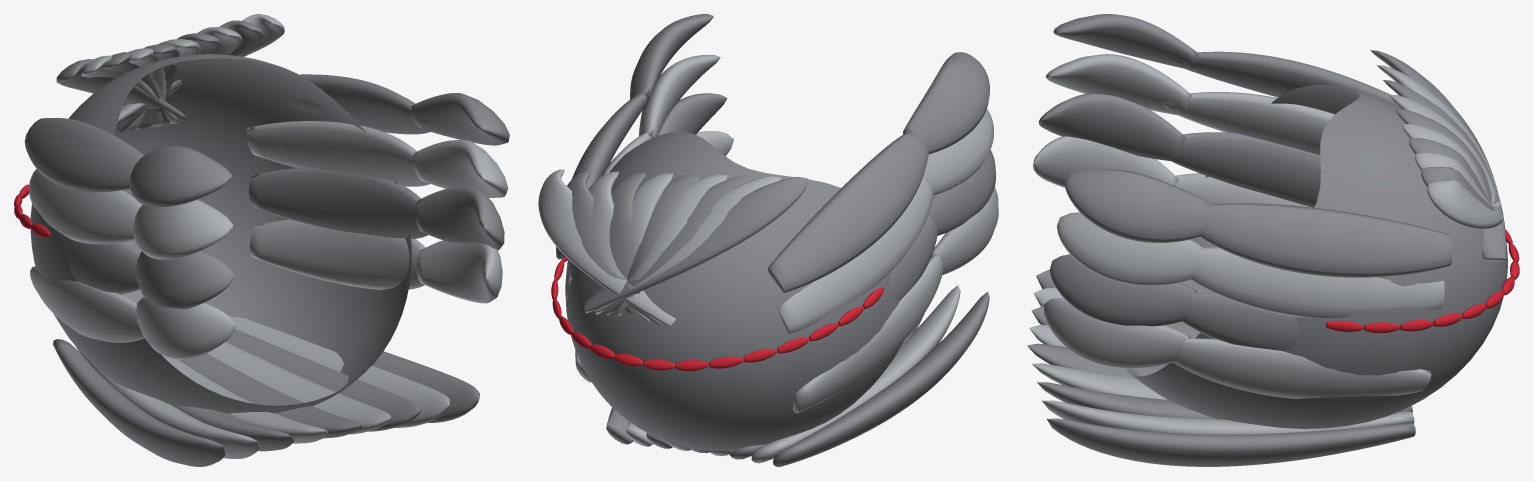
Rendered from female_hair_ref11.glb.
3 views of the same model, side by side, from view 1: azimuth 30°, elevation 25°; view 2: azimuth 150°, elevation 25°; view 3: azimuth 270°, elevation 25° (orthographic). The views are drawn at different scales.
Visible parts, largest first — view 1: CrownHair_ref11, SideHair_Upper_1_2, SideHair_Upper_1_3, SideHair_Upper_1_1, SideHair_Upper_-1_0, BackHair_00, SideHair_Upper_-1_1, SideHair_Upper_-1_3, SideHair_Wave_-1_0, SideHair_Wave_-1_1, SideHair_Wave_1_3, SideHair_Wave_-1_2 (+24 smaller); view 2: CrownHair_ref11, SideHair_Upper_-1_0, BackHair_00, SideHair_Upper_-1_1, SideHair_Wave_-1_0, FrontHair_Sweep_00, SideHair_Upper_-1_3, FrontHair_Sweep_09, BackHair_01, SideHair_Wave_-1_1, SideHair_Wave_-1_2, SideHair_Wave_1_0 (+16 smaller); view 3: CrownHair_ref11, SideHair_Upper_1_0, BackHair_08, SideHair_Upper_1_1, SideHair_Upper_1_3, SideHair_Wave_1_0, SideHair_Upper_-1_2, SideHair_Wave_1_1, SideHair_Wave_-1_2, SideHair_Wave_1_2, SideHair_Upper_-1_1, SideHair_Wave_1_3 (+20 smaller).
Part boxes in pixels (left/top/right/bottom): CrownHair_ref11: left=30, top=54, right=411, bottom=413; SideHair_Upper_1_2: left=249, top=167, right=433, bottom=239; SideHair_Upper_1_3: left=249, top=219, right=425, bottom=289; SideHair_Upper_1_1: left=246, top=121, right=432, bottom=186; SideHair_Upper_-1_0: left=24, top=117, right=143, bottom=192; BackHair_00: left=52, top=339, right=225, bottom=466; SideHair_Upper_-1_1: left=28, top=169, right=142, bottom=244; SideHair_Upper_-1_3: left=30, top=266, right=144, bottom=342; SideHair_Wave_-1_0: left=129, top=146, right=232, bottom=207; SideHair_Wave_-1_1: left=133, top=199, right=233, bottom=259; SideHair_Wave_1_3: left=416, top=240, right=502, bottom=303; SideHair_Wave_-1_2: left=136, top=250, right=234, bottom=309; CrownHair_ref11: left=565, top=131, right=903, bottom=451; SideHair_Upper_-1_0: left=768, top=133, right=928, bottom=292; BackHair_00: left=773, top=291, right=989, bottom=466; SideHair_Upper_-1_1: left=777, top=177, right=933, bottom=334; SideHair_Wave_-1_0: left=903, top=52, right=989, bottom=154; FrontHair_Sweep_00: left=584, top=177, right=808, bottom=313; SideHair_Upper_-1_3: left=793, top=255, right=943, bottom=413; FrontHair_Sweep_09: left=538, top=169, right=675, bottom=326; BackHair_01: left=751, top=285, right=960, bottom=463; SideHair_Wave_-1_1: left=923, top=109, right=993, bottom=195; SideHair_Wave_-1_2: left=928, top=150, right=995, bottom=235; SideHair_Wave_1_0: left=630, top=14, right=713, bottom=110; CrownHair_ref11: left=1125, top=84, right=1507, bottom=428; SideHair_Upper_1_0: left=1200, top=203, right=1452, bottom=277; BackHair_08: left=1047, top=418, right=1415, bottom=466; SideHair_Upper_1_1: left=1191, top=247, right=1444, bottom=317; SideHair_Upper_1_3: left=1173, top=338, right=1431, bottom=398; SideHair_Wave_1_0: left=1064, top=169, right=1209, bottom=242; SideHair_Upper_-1_2: left=1154, top=132, right=1320, bottom=207; SideHair_Wave_1_1: left=1057, top=212, right=1202, bottom=286; SideHair_Wave_-1_2: left=1038, top=93, right=1185, bottom=161; SideHair_Wave_1_2: left=1049, top=254, right=1196, bottom=326; SideHair_Upper_-1_1: left=1161, top=92, right=1335, bottom=155; SideHair_Wave_1_3: left=1044, top=298, right=1190, bottom=367.
Bounding box in the file's own units: 0.6764 × 0.642 × 0.8328.
